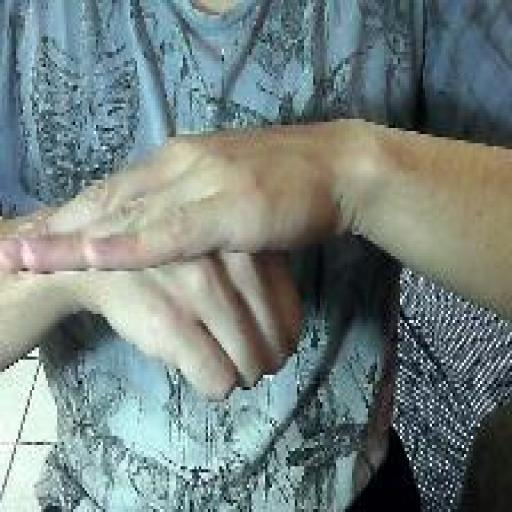Inu -dog-: (0, 123, 306, 406)
